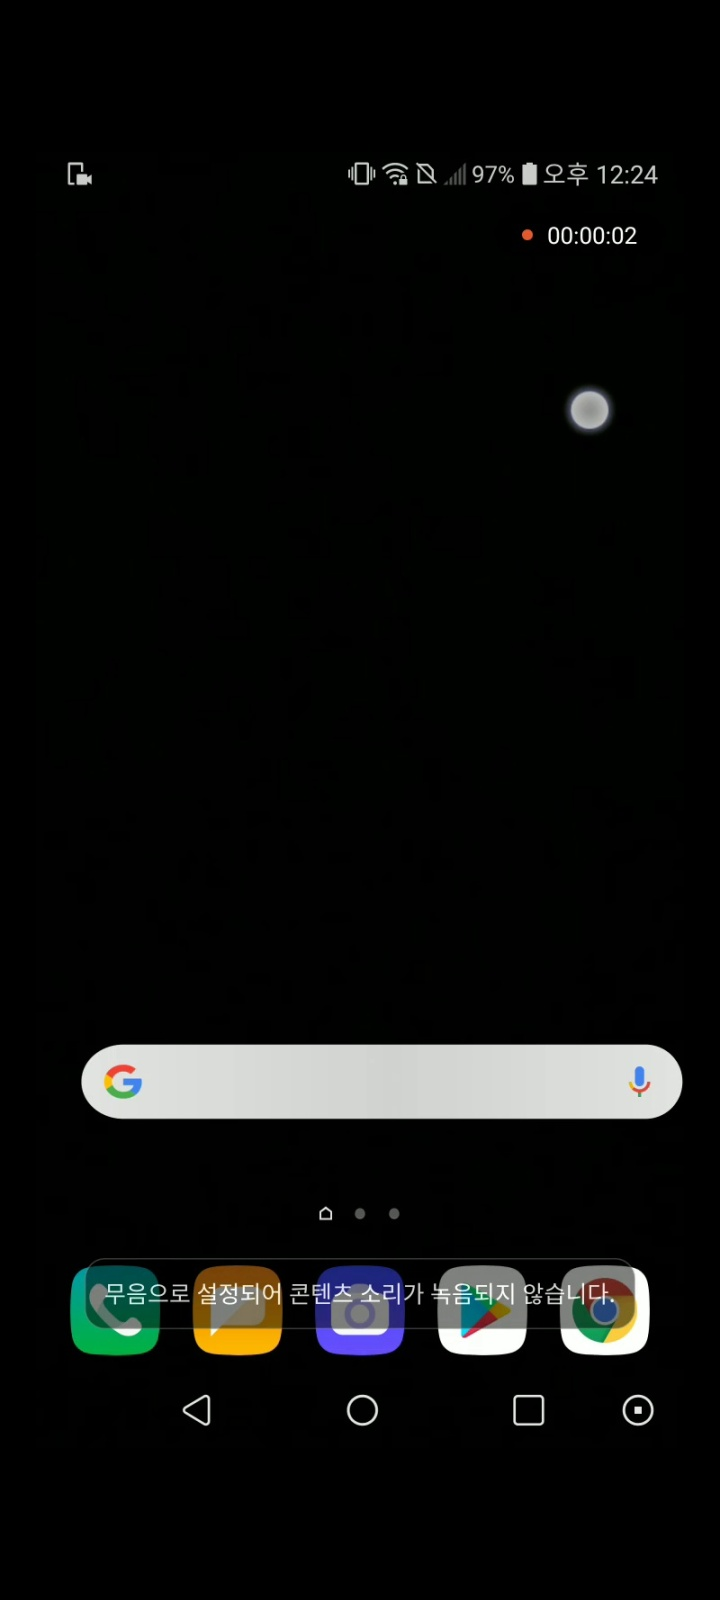Cursor: (567, 387, 612, 432)
